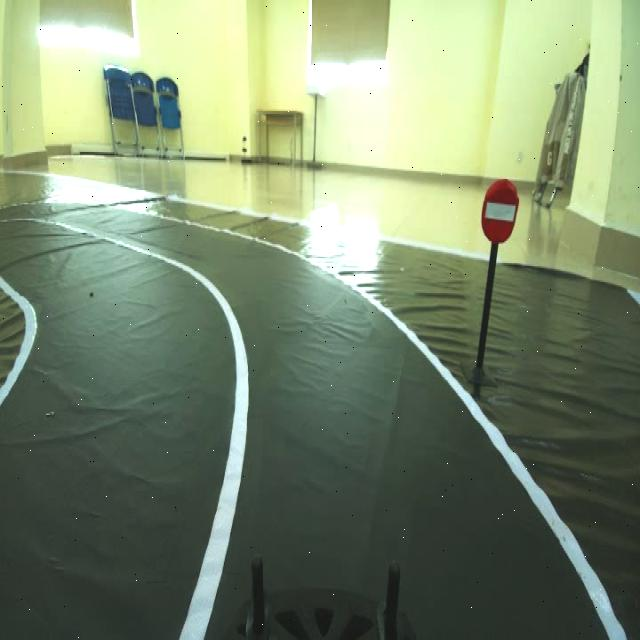no_entry: (475, 169, 520, 252)
